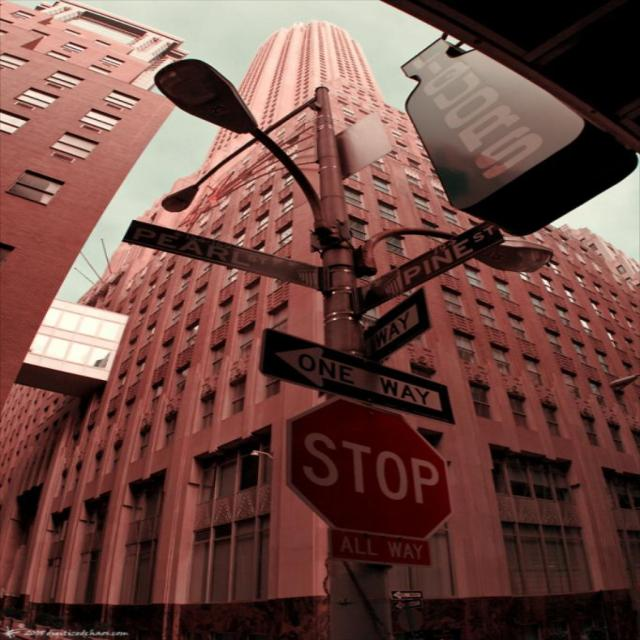Stop-sign: (284, 394, 452, 543)
